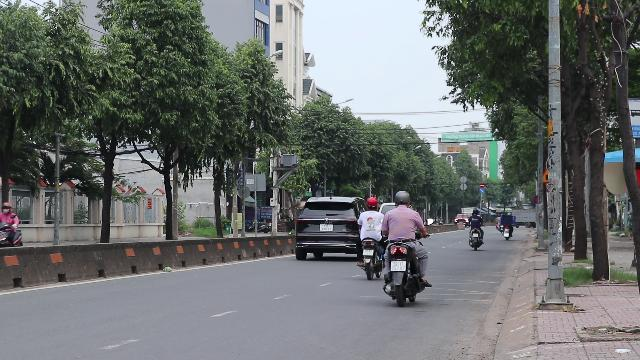helmet: (393, 190, 411, 206)
licenseplate: (390, 261, 406, 271)
motorcyclist: (381, 189, 431, 305)
